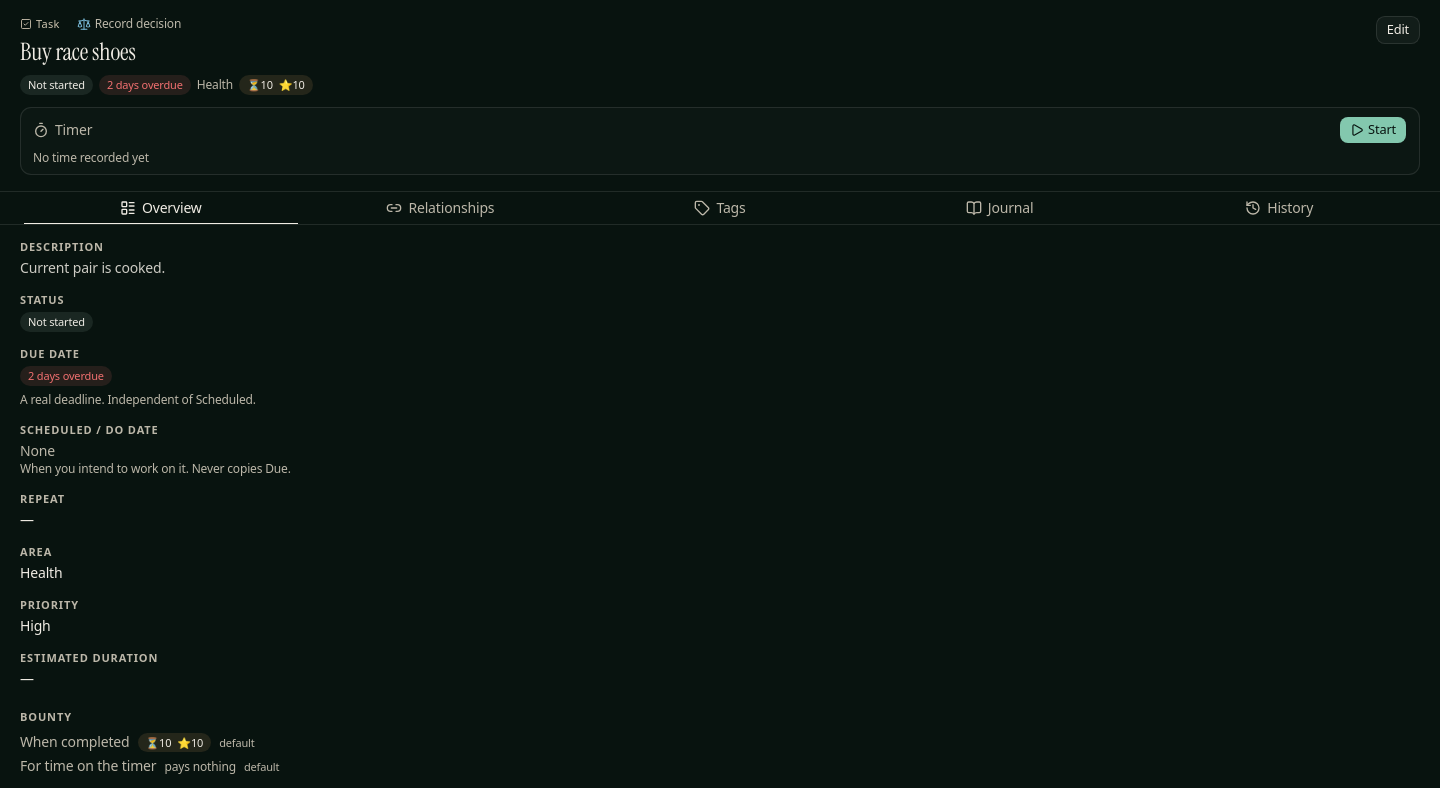
it: SubjectDetail task timer › starts, pauses and completes the timer on a Task
This screenshot has width=1440, height=788.
Check: the text "No time recorded yet" is shown, box [33,149,149,166]
What coordinates should you click on to do the following:
click the button "Start"
I would click on:
 (1373, 130)
Its box is [1339,116,1407,144].
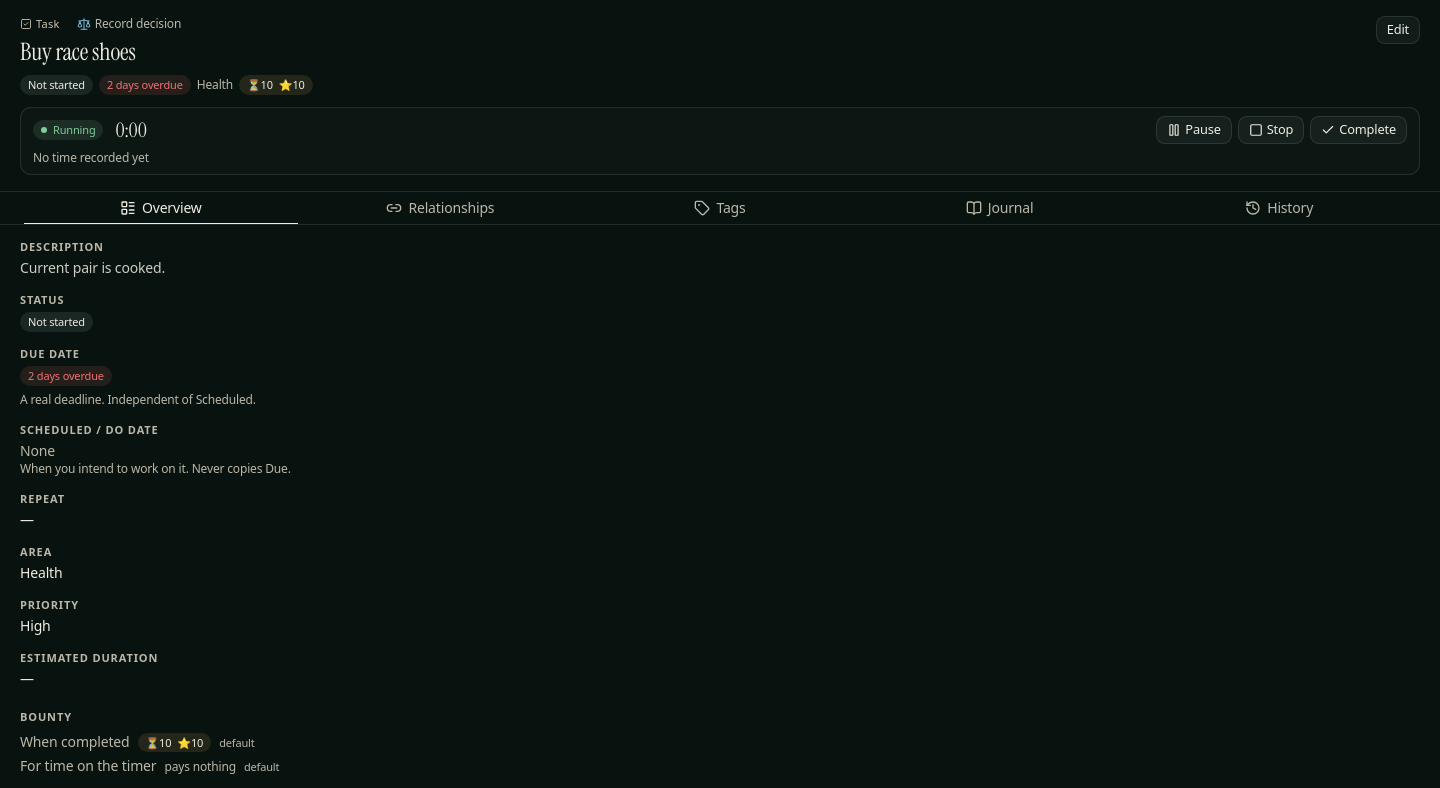
Check: the text "Running" is shown, box [33,120,104,140]
Check: the text "0:00" is shown, box [116,120,147,140]
What coordinates should you click on to do the following:
click the button "Pause"
I would click on:
 (1194, 130)
Its box is [1156,116,1232,144].
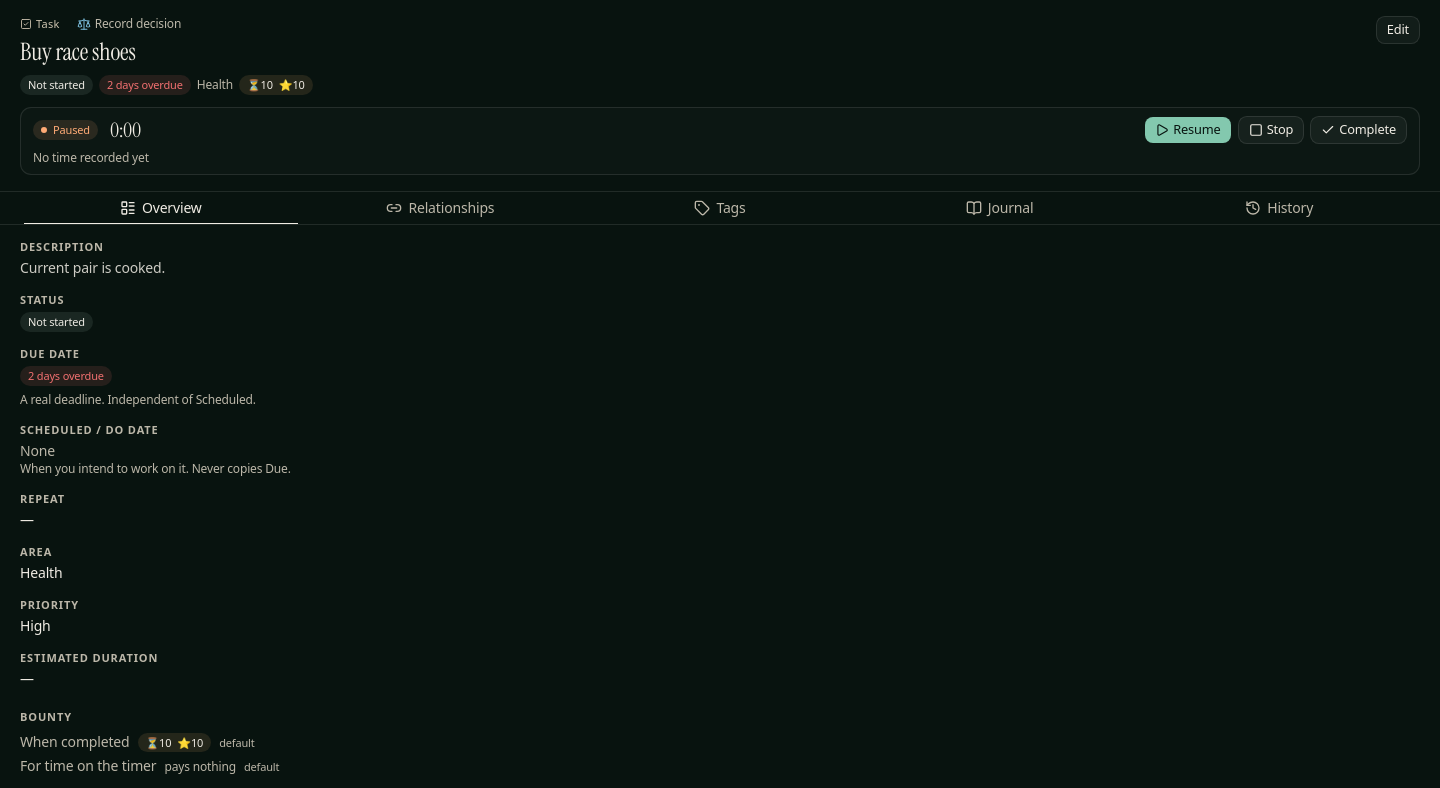
Check: the text "Paused" is shown, box [33,120,98,140]
Check: the button "Resume" is shown, box [1144,116,1232,144]
// Complete asks first: it closes the task, where Stop beside it only ends the session.
What coordinates should you click on to do the following:
click the button "Complete"
I would click on:
 (1359, 130)
Its box is [1310,116,1407,144].
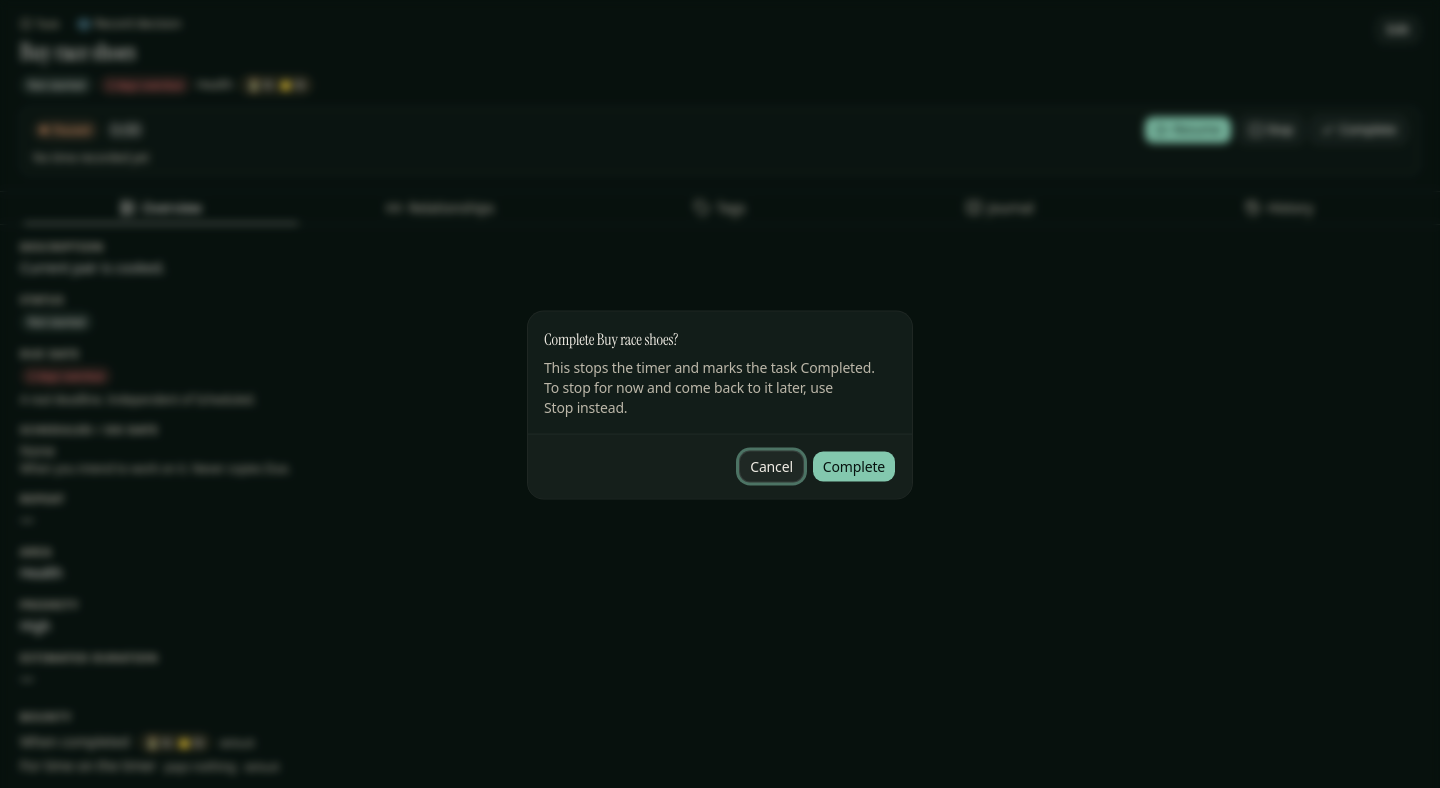
Check: the text "use Stop instead" is shown, box [544,358,875,416]
What coordinates should you click on to do the following:
click the button "Cancel"
I would click on:
 (772, 466)
Its box is [739,450,804,482].
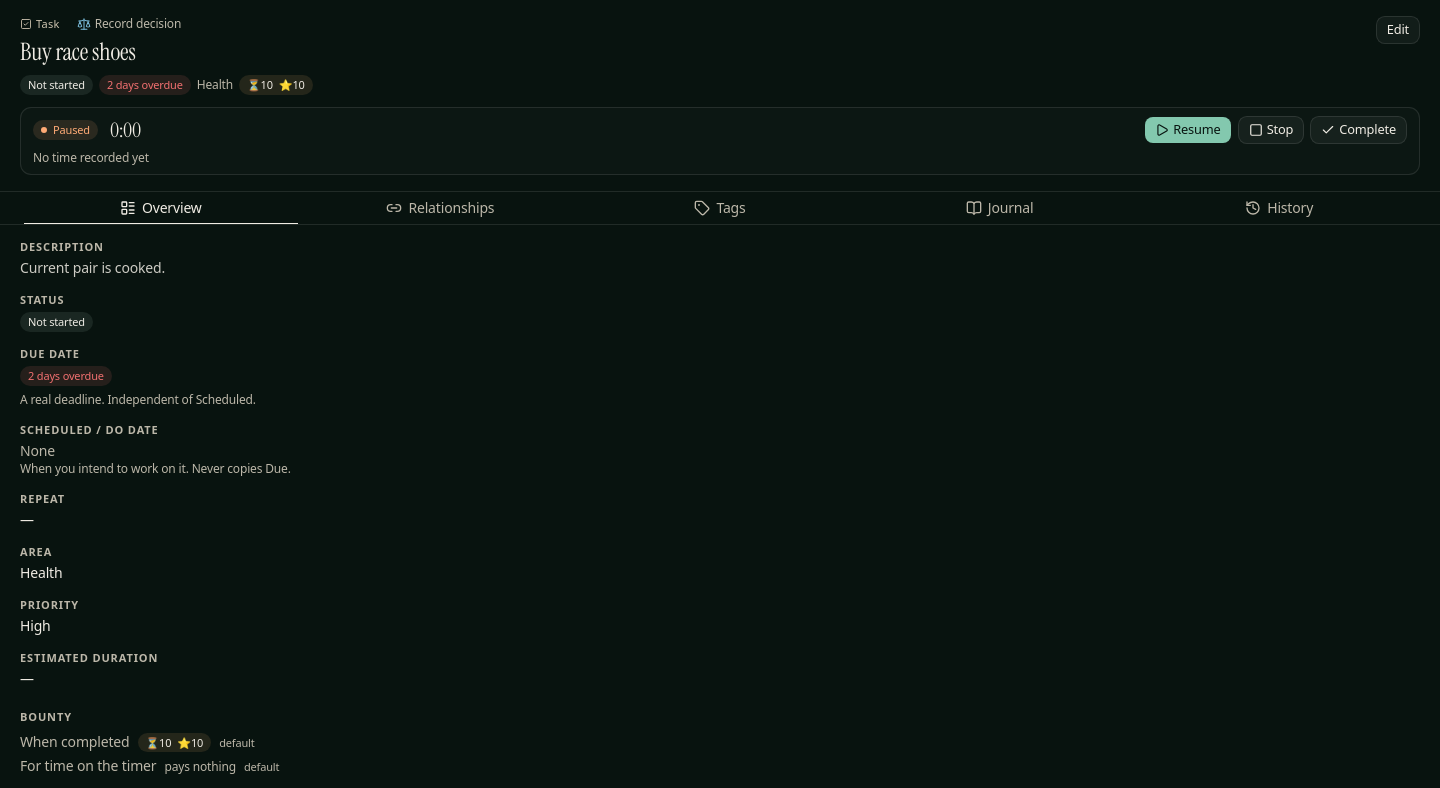
Check: the text "Paused" is shown, box [33,120,98,140]
What coordinates should you click on to do the following:
click the button "Complete"
I would click on:
 (1359, 130)
Its box is [1310,116,1407,144].
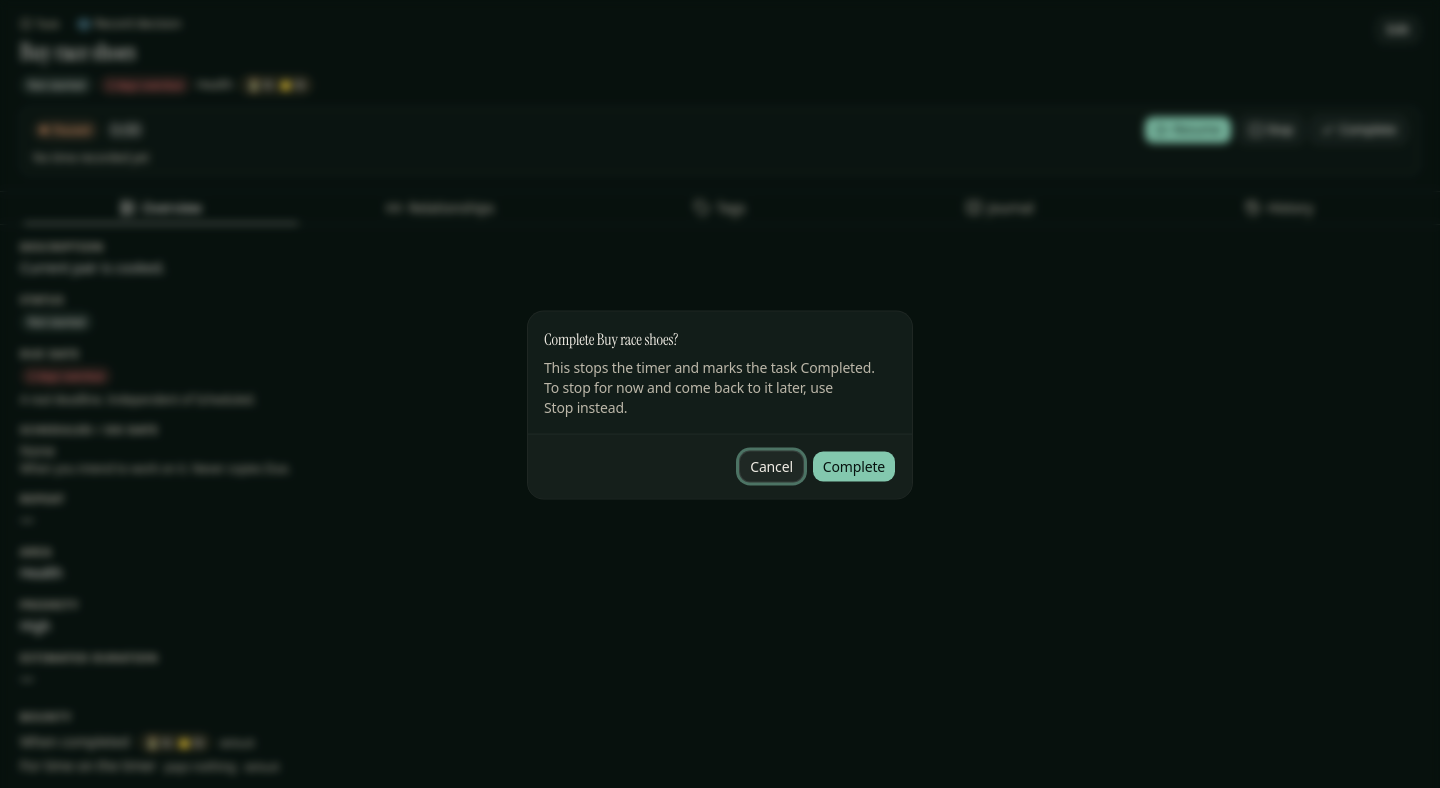
What coordinates should you click on to do the following:
click the button "Complete"
I would click on:
 (854, 466)
Its box is [812,450,896,482].
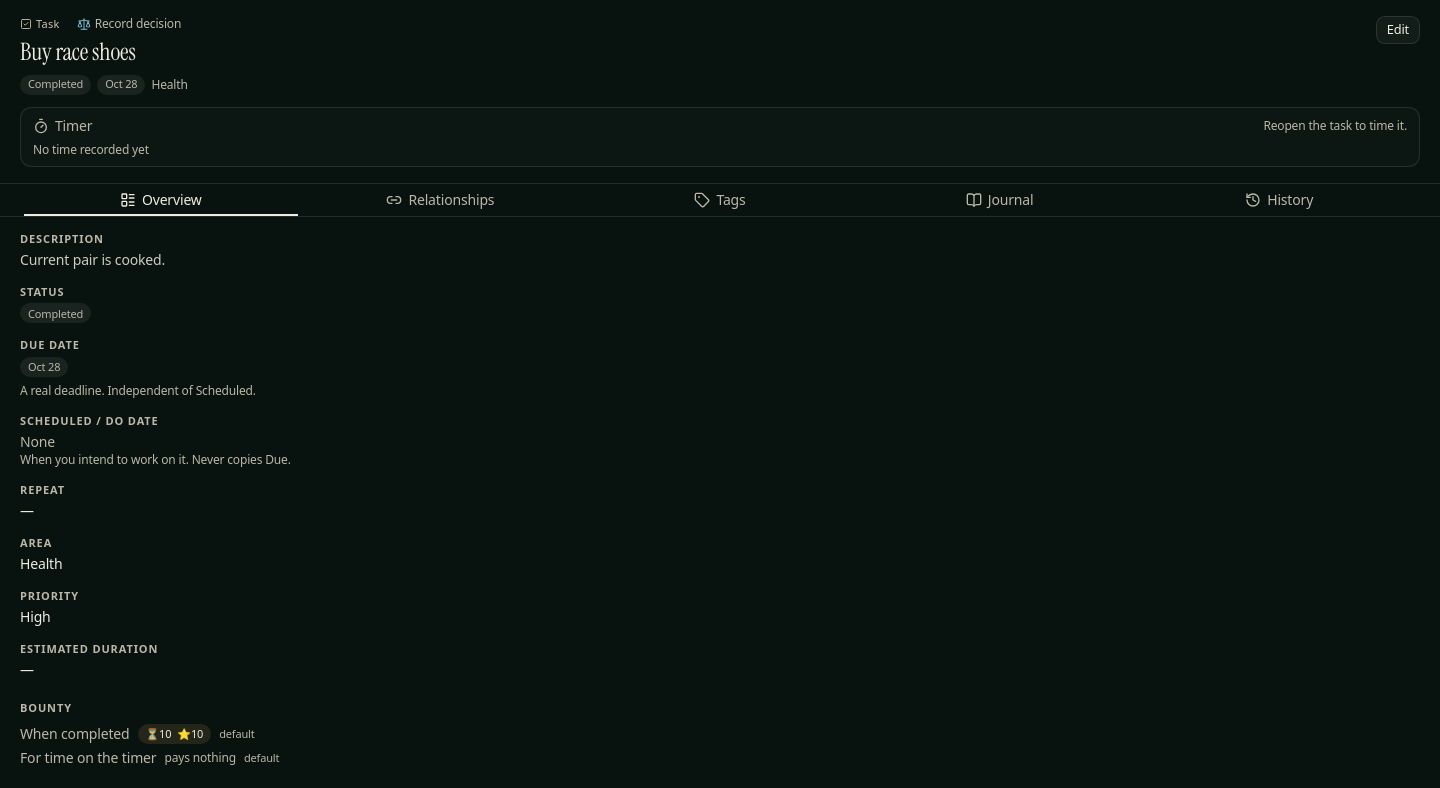
Check: the text "Reopen the task to time it." is shown, box [1263,118,1407,134]
Check: the text "start" is gone
